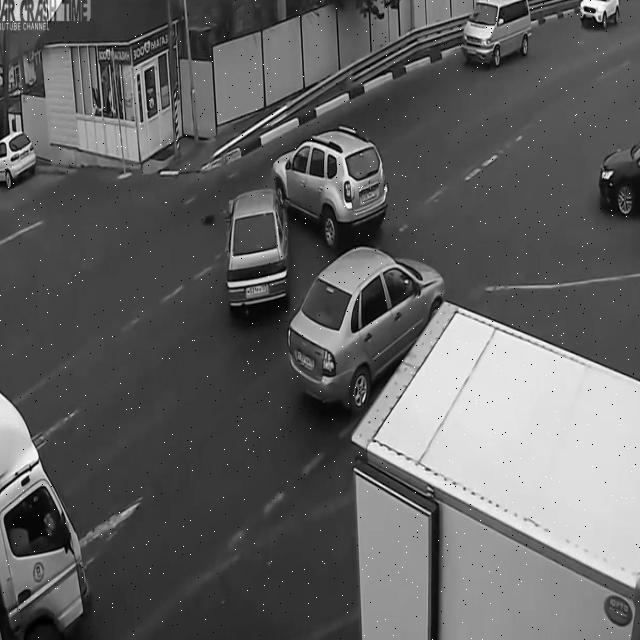accident: (202, 125, 402, 329)
